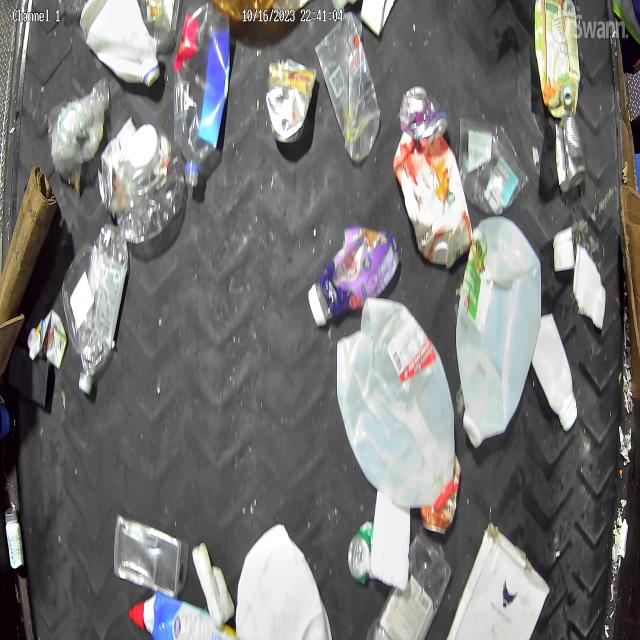can: (266, 55, 316, 145), (420, 452, 461, 534), (400, 86, 448, 143), (556, 112, 588, 193), (347, 519, 374, 585)
milk_jug: (336, 298, 454, 508), (457, 214, 543, 449), (234, 524, 336, 640), (82, 0, 164, 87)
non_white_jug: (394, 132, 474, 269), (133, 588, 243, 639), (534, 0, 581, 119)
plastic_bottle: (173, 2, 231, 188), (71, 226, 128, 392)
